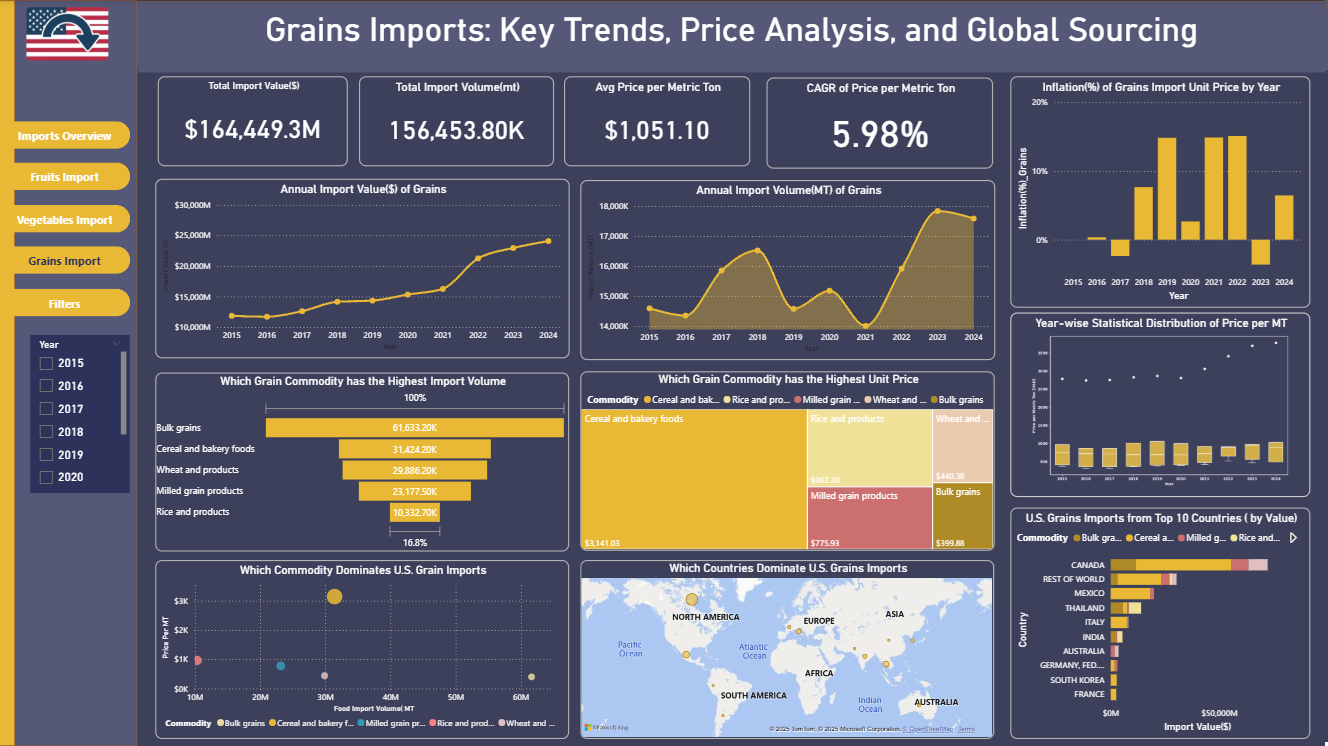

The page's visual inventory and layout, read from the dashboard file:
{"tool":"powerbi","page":{"name":"Grains","canvas":[1920,1080],"ordinal":3},"visuals":[{"type":"actionButton","title":"Overview","box":[0,175.5,190,40],"z":0,"group":"g1"},{"type":"lineChart","title":"Annual Import Value($) of Grains","fields":{"Category":["US_FoodImports_Summary.Year"],"Y":["US_FoodImports_Summary.FoodValue($)_Grains"]},"box":[226.8,259.5,600,260],"z":0},{"type":"actionButton","title":"Fruits","box":[0,236,190,40],"z":1000,"group":"g1"},{"type":"barChart","title":"U.S. Grains Imports from Top 10 Countries ( by Value)","fields":{"Category":["US_FoodImports_Country.Country"],"Series":["US_FoodImports_Country.Commodity"],"Y":["Sum(US_FoodImports_Country.FoodValue($))"]},"box":[1463.5,734.8,434.3,335.5],"z":1000},{"type":"actionButton","title":"Vegetables","box":[0,296.5,190,40],"z":2000,"group":"g1"},{"type":"scatterChart","title":"Which Commodity  Dominates U.S. Grain Imports","fields":{"Series":["US_FoodImports_Summary.Commodity"],"Y":["US_FoodImports_Summary.Price per MT - Grains"],"Size":["US_FoodImports_Summary.Price per MT - Grains"],"X":["US_FoodImports_Summary.FoodVolume(mt)_Grains"]},"box":[226.4,811,599,259.3],"z":2000},{"type":"card","title":"Total Import Value($)","fields":{"Values":["US_FoodImports_Summary.FoodValue($)_Grains"]},"box":[229.8,110.9,275.1,130.3],"z":3000},{"type":"actionButton","title":"Grians","box":[0,357,190,40],"z":3000,"group":"g1"},{"type":"card","title":"Total Import Volume(mt)","fields":{"Values":["US_FoodImports_Summary.FoodVolume(mt)_Grains"]},"box":[521.1,110.9,282.3,130.3],"z":4000},{"type":"card","title":"Avg Price per Metric Ton","fields":{"Values":["US_FoodImports_Summary.Price per MT - Grains"]},"box":[817.9,110.9,269.6,130.3],"z":5000},{"type":"card","title":"CAGR of  Price per Metric Ton","fields":{"Values":["US_FoodImports_Summary.CAGR _Grains"]},"box":[1111.7,111.7,328.3,131.7],"z":6000},{"type":"map","title":"Which Countries Dominate U.S. Grains Imports","fields":{"Category":["US_FoodImports_Country.Country"],"Size":["Sum(US_FoodImports_Country.FoodValue($))"]},"box":[841.9,811,599,259.3],"z":7000},{"type":"areaChart","title":"Annual Import Volume(MT) of Grains","fields":{"Category":["US_FoodImports_Summary.Year"],"Y":["US_FoodImports_Summary.FoodVolume(mt)_Grains"]},"box":[842.3,259.7,600.8,260.6],"z":8000},{"type":"columnChart","title":"Inflation(%) of Grains Import Unit Price  by Year","fields":{"Category":["US_FoodImports_Summary.Year"],"Y":["US_FoodImports_Summary.Inflation(%)_Grains"]},"box":[1463.5,111.1,434.3,335.5],"z":9000},{"type":"treemap","title":"Which Grain Commodity has the Highest Unit Price","fields":{"Group":["US_FoodImports_Summary.Commodity"],"Values":["US_FoodImports_Summary.Price per MT - Grains"]},"box":[841.9,537.2,600,260],"z":10000},{"type":"funnel","title":"Which Grain Commodity has the Highest Import Volume","fields":{"Category":["US_FoodImports_Summary.Commodity"],"Y":["US_FoodImports_Summary.FoodVolume(mt)_Grains"]},"box":[226.4,539.3,599,259.3],"z":11000},{"type":"shape","box":[190,1.7,1730,95],"z":12000},{"type":"textbox","title":"Grains Imports: Key Trends, Price Analysis, and Global Sourcing ","box":[200,15,1719.7,90],"z":13000},{"type":"shape","box":[0,0,200,1080.4],"z":14000},{"type":"shape","box":[0,0,23,1080],"z":15000},{"type":"slicer","fields":{"Values":["DimYear.Year"]},"box":[45.3,485.8,144.1,228.5],"z":16000},{"type":"group","id":"g1","title":"Pages","box":[0,175.5,190,221.5],"z":17000},{"type":"actionButton","title":"Grians","box":[0,418,190,40],"z":18000},{"type":"image","box":[35,1.7,130,95],"z":19000},{"type":"pythonVisual","title":"Year-wise Statistical  Distribution of Price per MT","fields":{"Values":["US_FoodImports_Summary.Year","US_FoodImports_Summary.Commodity","US_FoodImports_Summary.Category","US_FoodImports_Summary.Price per MT - Grains"]},"box":[1463.5,452.8,434.3,267.6],"z":20000}]}

Visuals, with their boxes on the page's 1920x1080 design canvas (x1, y1, x2, y2). These are canvas units, not pixel positions in the 1328x746 screenshot, which may show the page scaled, cropped or inside an application window:
"Overview" actionButton: (x1=0, y1=176, x2=190, y2=216)
"Annual Import Value($) of Grains" lineChart: (x1=227, y1=260, x2=827, y2=520)
"Fruits" actionButton: (x1=0, y1=236, x2=190, y2=276)
"U.S. Grains Imports from Top 10 Countries ( by Value)" barChart: (x1=1464, y1=735, x2=1898, y2=1070)
"Vegetables" actionButton: (x1=0, y1=296, x2=190, y2=336)
"Which Commodity  Dominates U.S. Grain Imports" scatterChart: (x1=226, y1=811, x2=825, y2=1070)
"Total Import Value($)" card: (x1=230, y1=111, x2=505, y2=241)
"Grians" actionButton: (x1=0, y1=357, x2=190, y2=397)
"Total Import Volume(mt)" card: (x1=521, y1=111, x2=803, y2=241)
"Avg Price per Metric Ton" card: (x1=818, y1=111, x2=1088, y2=241)
"CAGR of  Price per Metric Ton" card: (x1=1112, y1=112, x2=1440, y2=243)
"Which Countries Dominate U.S. Grains Imports" map: (x1=842, y1=811, x2=1441, y2=1070)
"Annual Import Volume(MT) of Grains" areaChart: (x1=842, y1=260, x2=1443, y2=520)
"Inflation(%) of Grains Import Unit Price  by Year" columnChart: (x1=1464, y1=111, x2=1898, y2=447)
"Which Grain Commodity has the Highest Unit Price" treemap: (x1=842, y1=537, x2=1442, y2=797)
"Which Grain Commodity has the Highest Import Volume" funnel: (x1=226, y1=539, x2=825, y2=799)
shape: (x1=190, y1=2, x2=1920, y2=97)
"Grains Imports: Key Trends, Price Analysis, and Global Sourcing " textbox: (x1=200, y1=15, x2=1920, y2=105)
shape: (x1=0, y1=0, x2=200, y2=1080)
shape: (x1=0, y1=0, x2=23, y2=1080)
slicer - DimYear.Year: (x1=45, y1=486, x2=189, y2=714)
"Pages" group: (x1=0, y1=176, x2=190, y2=397)
"Grians" actionButton: (x1=0, y1=418, x2=190, y2=458)
image: (x1=35, y1=2, x2=165, y2=97)
"Year-wise Statistical  Distribution of Price per MT" pythonVisual: (x1=1464, y1=453, x2=1898, y2=720)
